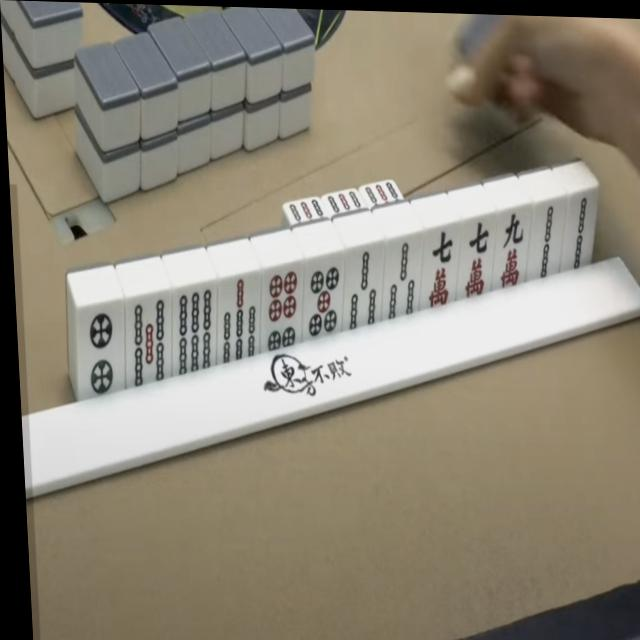2B: (522, 197, 569, 282), (560, 187, 603, 273)
2D: (76, 303, 129, 399)
3B: (341, 244, 391, 335), (380, 234, 428, 322)
5B: (124, 296, 175, 391)
5D: (301, 255, 348, 342)
6B: (170, 284, 222, 378)
6D: (260, 266, 309, 354)
7B: (213, 276, 265, 368)
7C: (418, 226, 465, 312), (455, 215, 501, 301)
9C: (490, 207, 535, 291)
